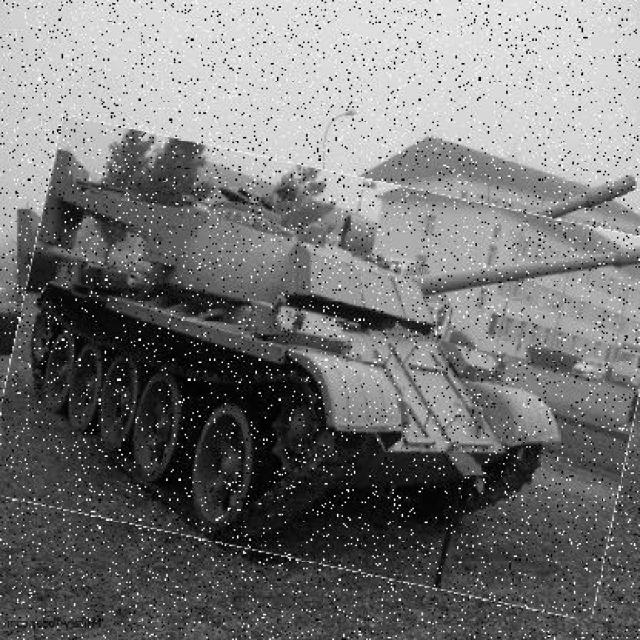Tank: (3, 144, 640, 593)
